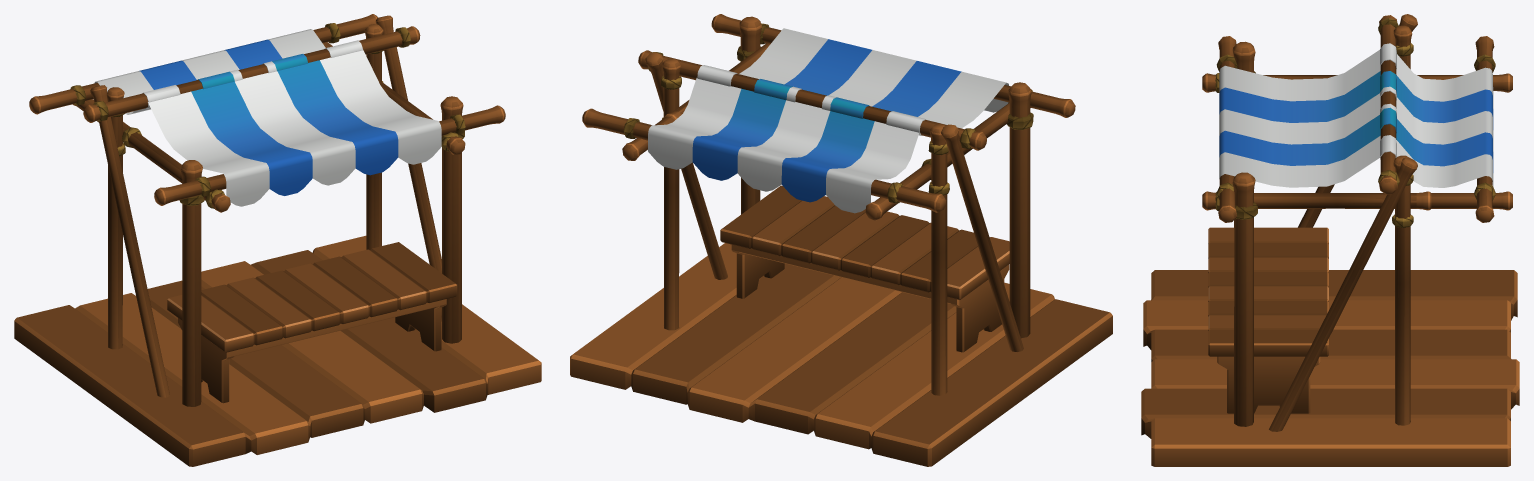
Rendered from Stall-2-2.fbx.
3 views of the same model, side by side, from view 1: azimuth 30°, elevation 25°; view 2: azimuth 150°, elevation 25°; view 3: azimuth 270°, elevation 25° (orthographic). The views are drawn at different scales.
Visible parts, largest first — view 1: Stall-2-2; view 2: Stall-2-2; view 3: Stall-2-2.
Part boxes in pixels (left/top/right/bottom): Stall-2-2: left=14, top=14, right=541, bottom=466; Stall-2-2: left=570, top=14, right=1112, bottom=466; Stall-2-2: left=1141, top=14, right=1519, bottom=466.
Size of the model in its own units: 555 by 429 by 501.
